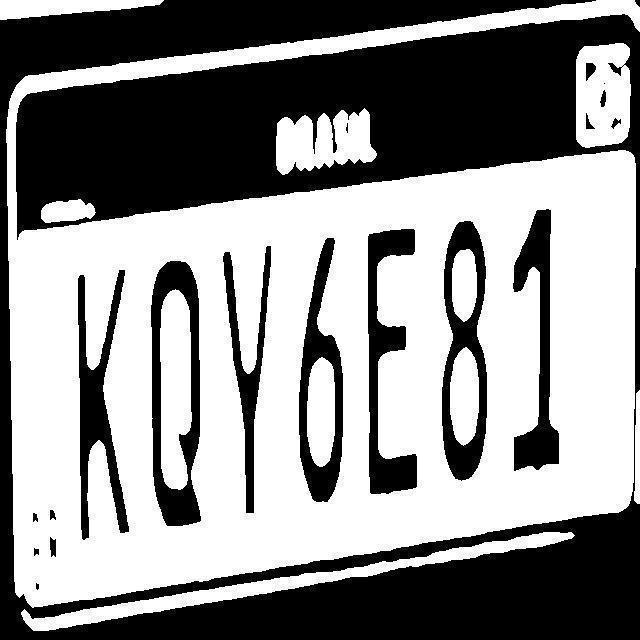1: (504, 204, 570, 478)
6: (293, 231, 350, 508)
8: (434, 212, 498, 486)
e: (362, 222, 428, 498)
k: (68, 257, 139, 547)
q: (144, 248, 212, 534)
y: (218, 240, 282, 518)
